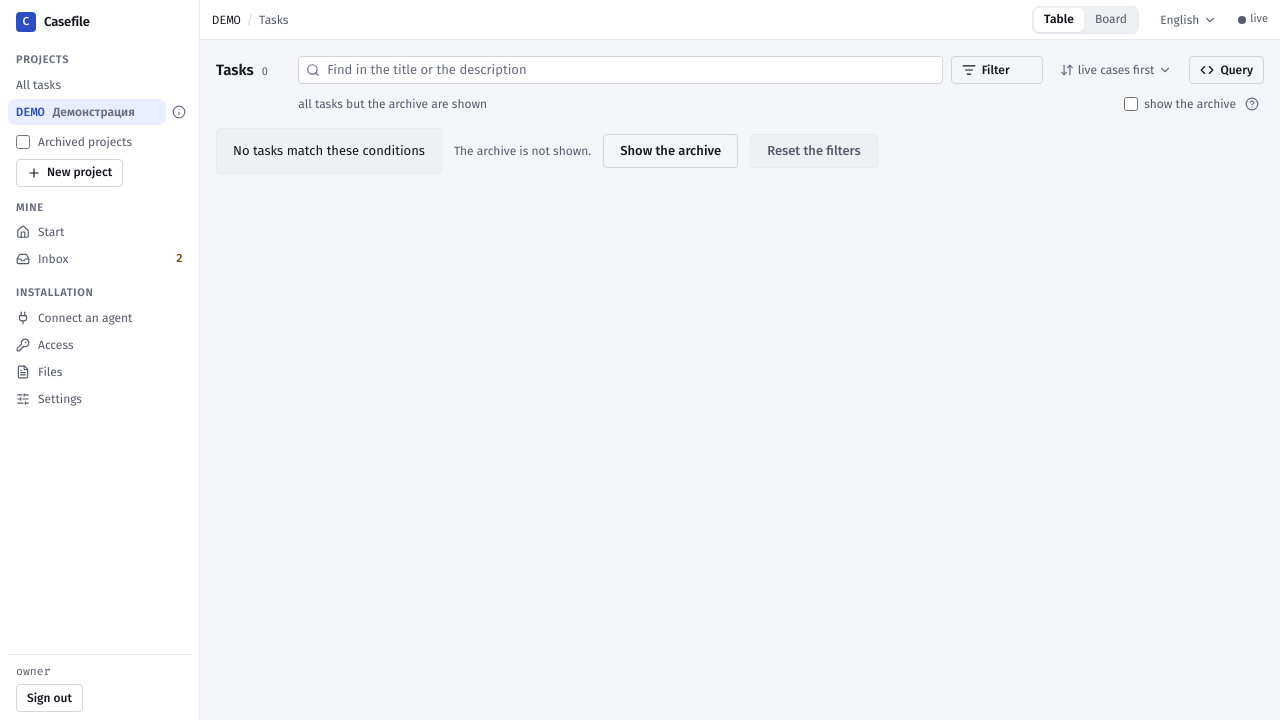
Test: экран проекта › из панели на экран проекта — одним движением, строка проекта ведёт в список
Click the link named "About project DEMO": [179, 112] box [172,104,186,118]
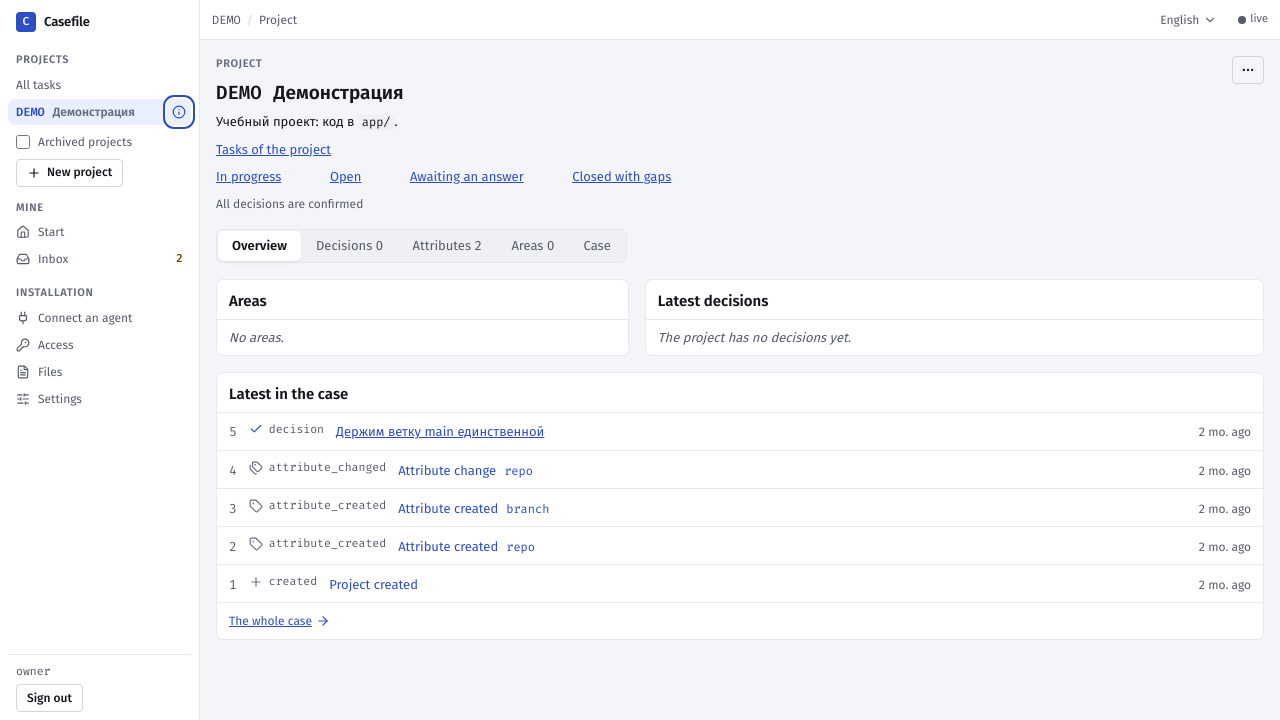
Expected: the heading "DEMO Демонстрация" is shown, [216,80,404,104]
